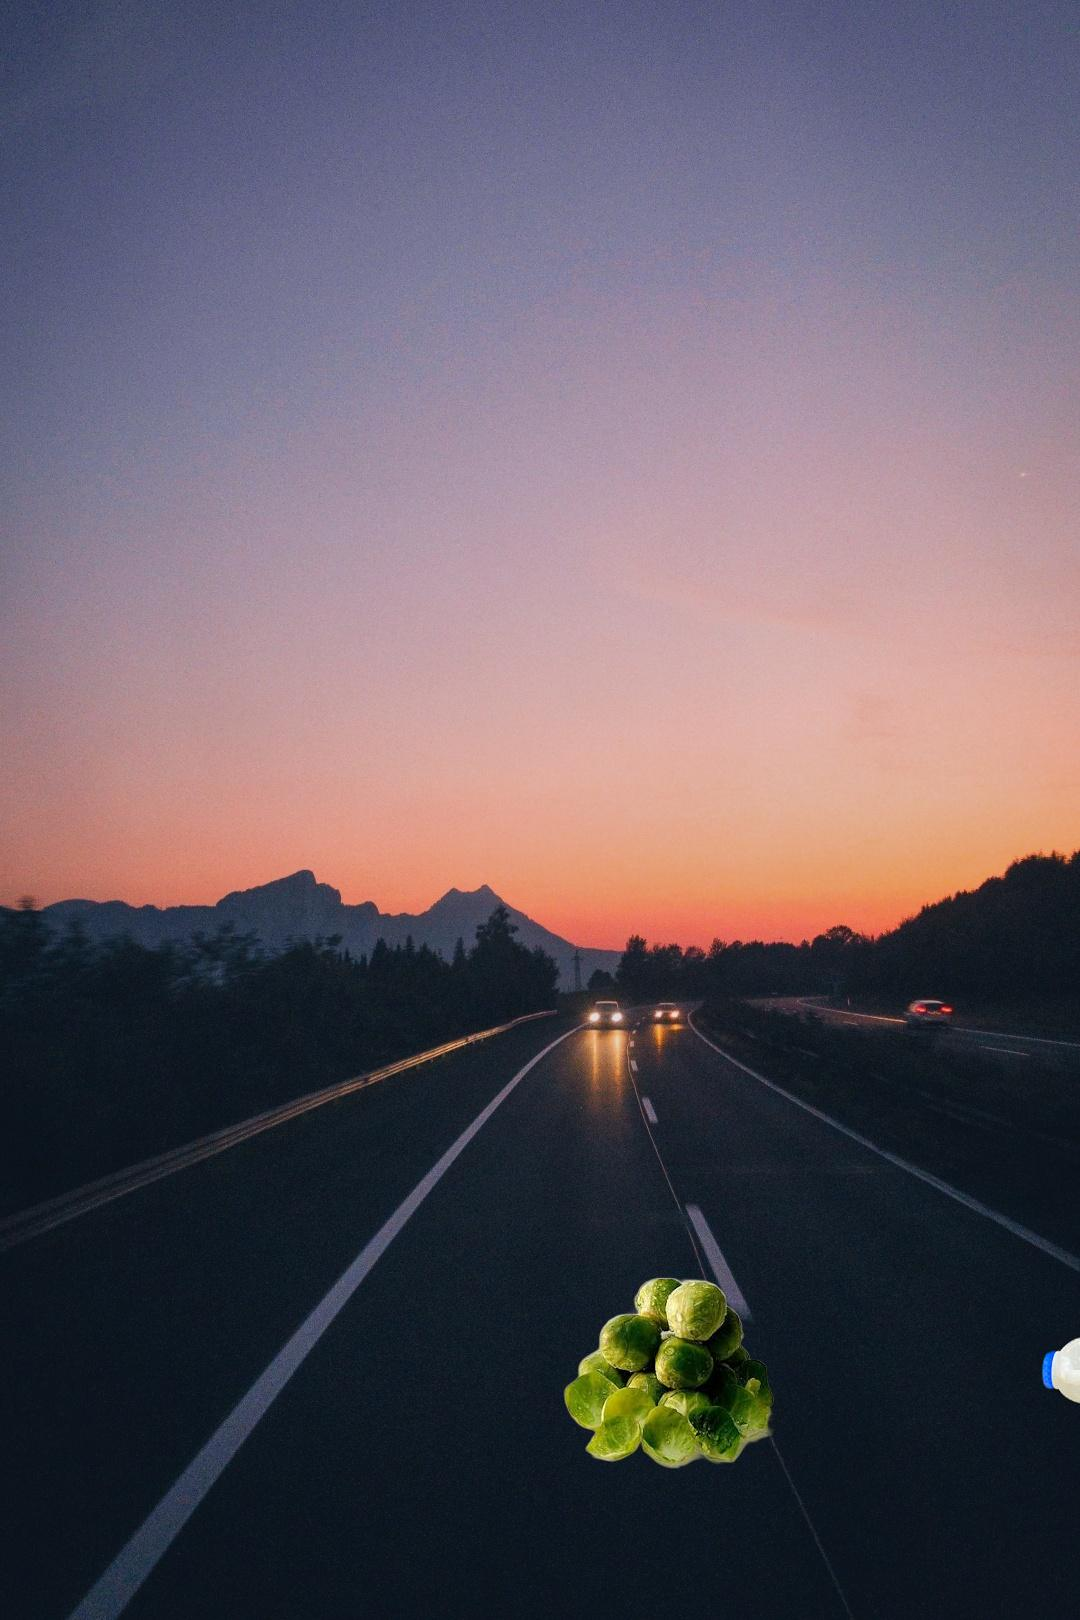biological: (559, 1270, 779, 1472)
plastic-bottles: (1038, 1323, 1080, 1416)
